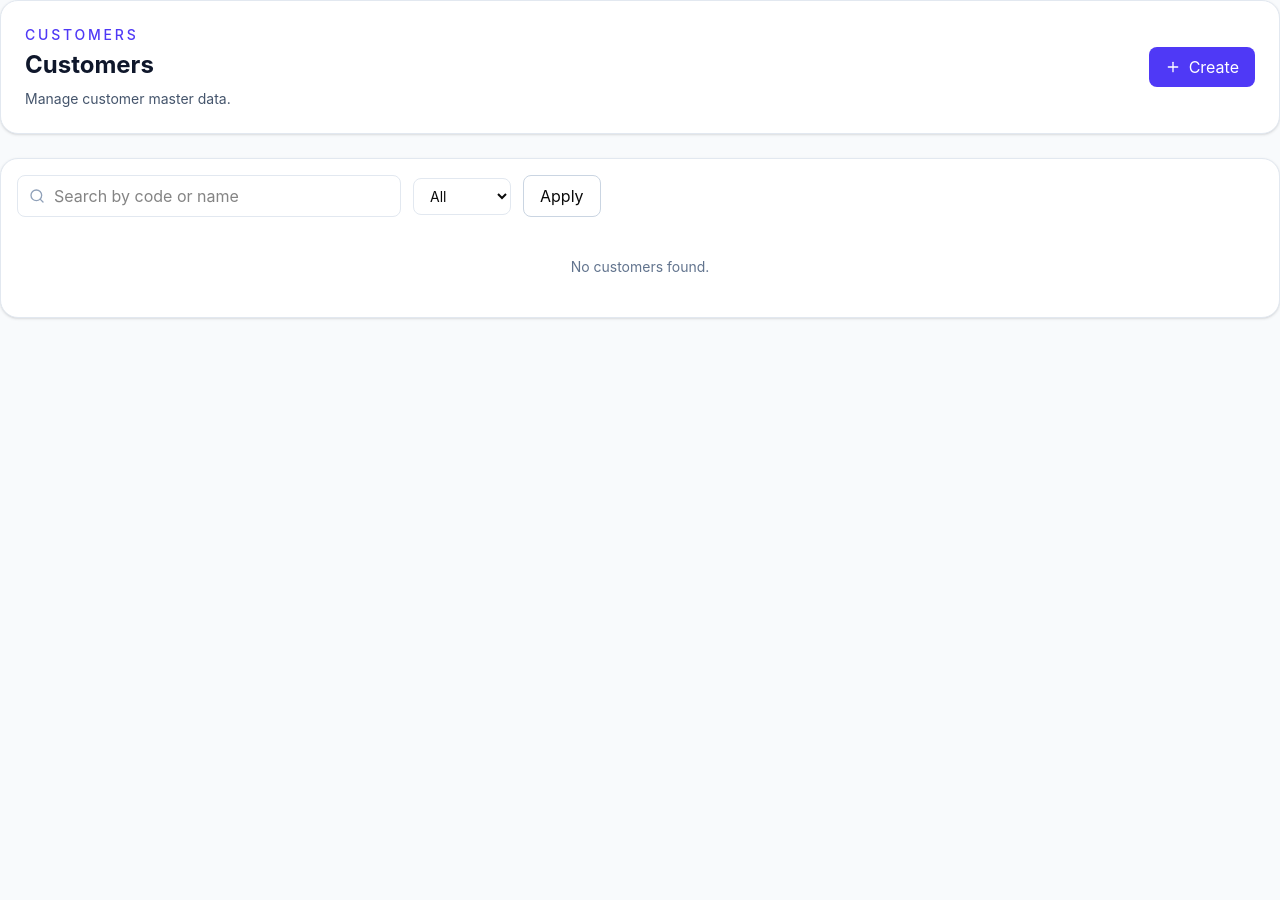
Scenario: CustomersPage › validates required code and name
The image size is (1280, 900).
Click the button "Create": point(1202, 67) [1149,47,1255,87]
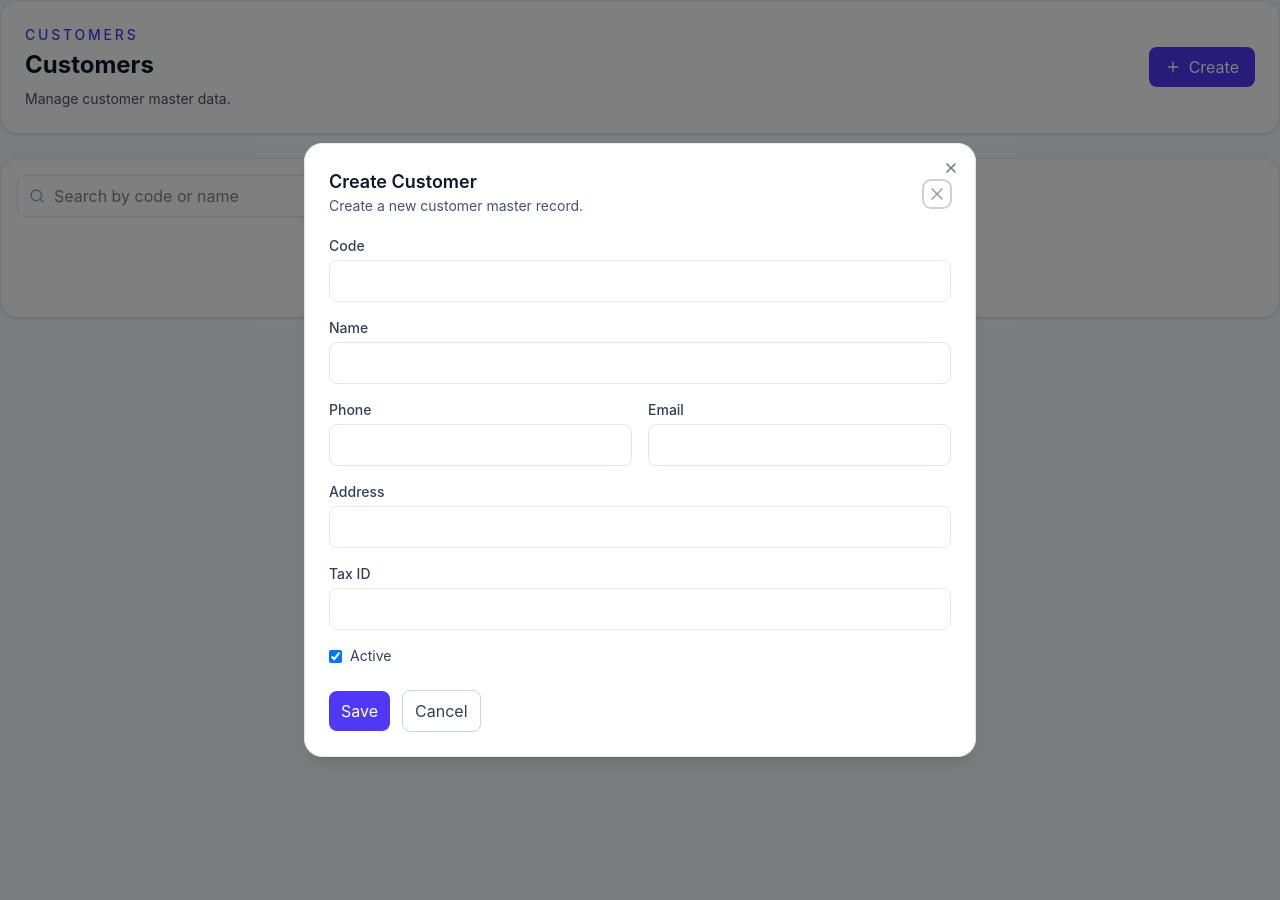
Click the button "Save": point(360, 711) [329,691,390,731]
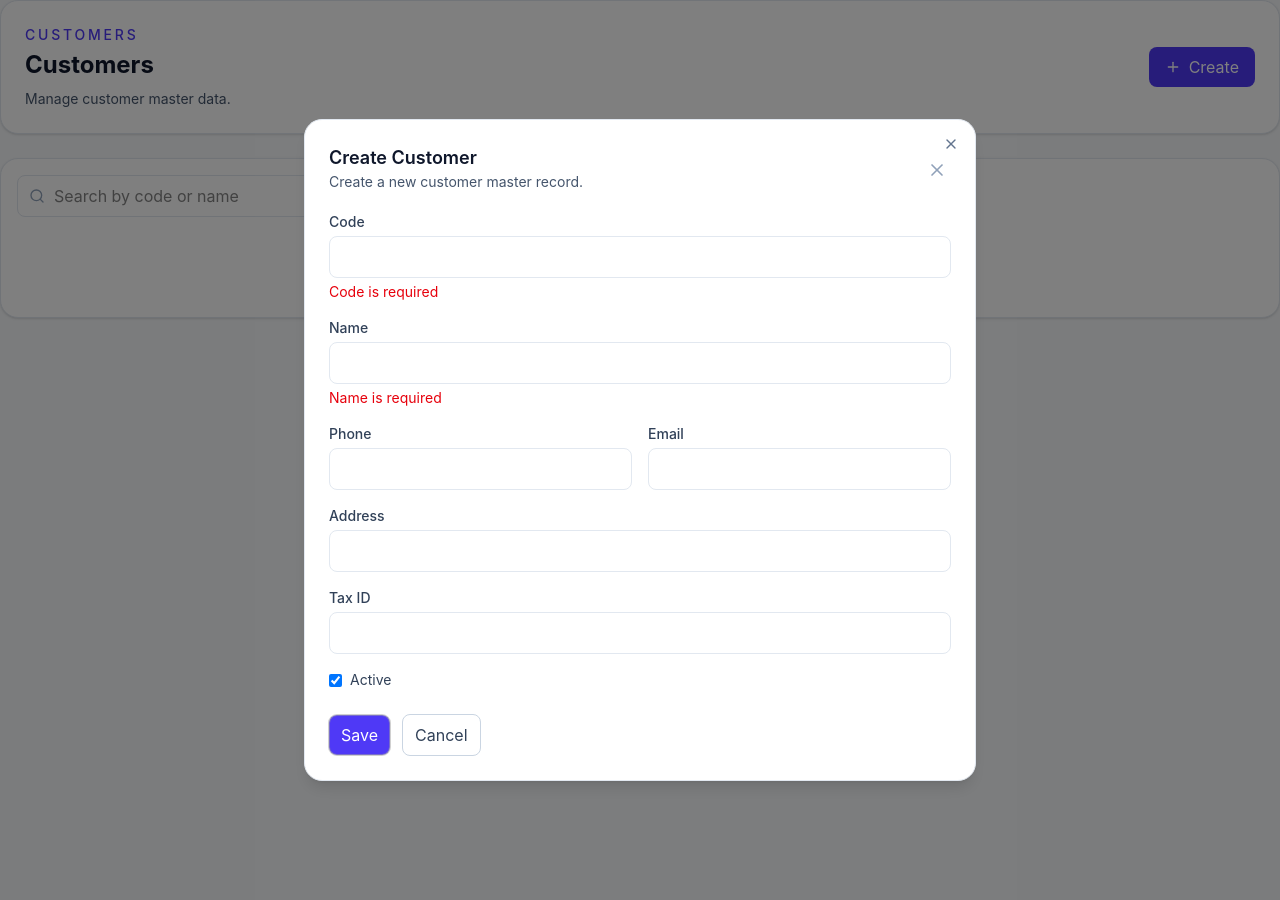
Expected: the text "Code is required" is shown, [329,283,438,300]
Expected: the text "Name is required" is shown, [329,389,442,406]
